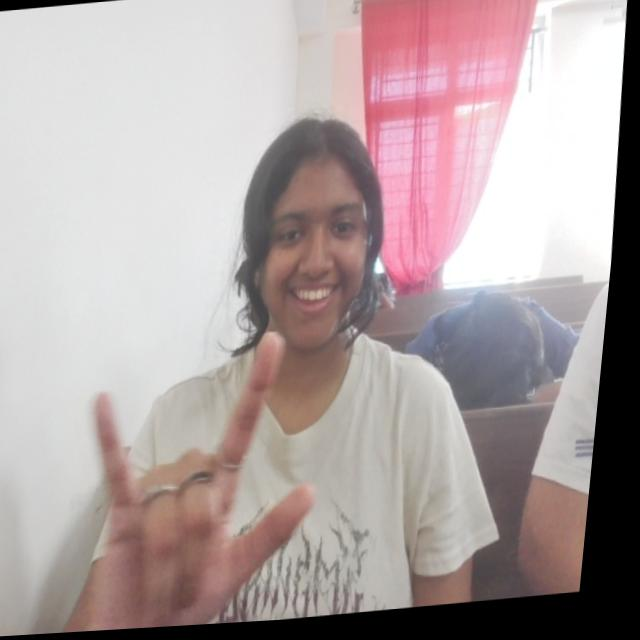iloveyou: (76, 331, 344, 634)
